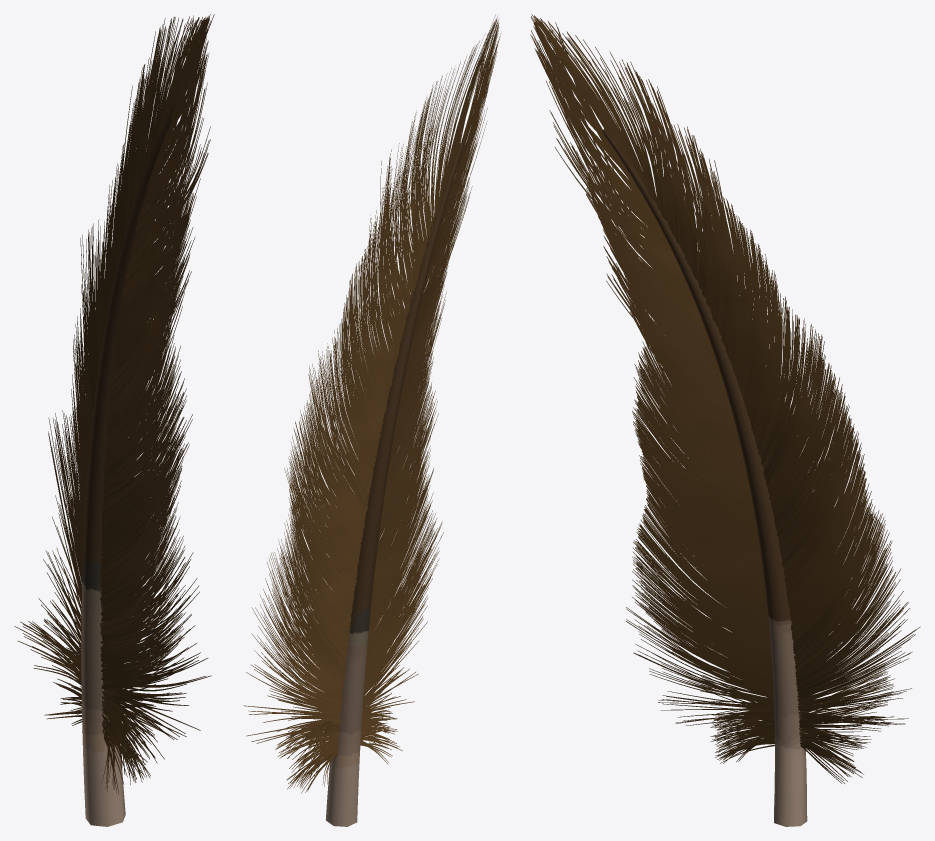
Rendered from feather2.fbx.
3 views of the same model, side by side, from view 1: azimuth 30°, elevation 25°; view 2: azimuth 150°, elevation 25°; view 3: azimuth 270°, elevation 25° (orthographic). The views are drawn at different scales.
Visible parts, largest first — view 1: polySurface1, extrudedSurface1; view 2: polySurface1, extrudedSurface1; view 3: polySurface1, extrudedSurface1.
Part boxes in pixels (x1,y1,x2,y2): polySurface1: (14, 14, 214, 794); extrudedSurface1: (81, 114, 172, 826); polySurface1: (243, 14, 500, 793); extrudedSurface1: (326, 143, 463, 826); polySurface1: (530, 14, 920, 783); extrudedSurface1: (603, 129, 807, 826).
Size of the model in its own units: 3.83 by 30.21 by 13.57.
